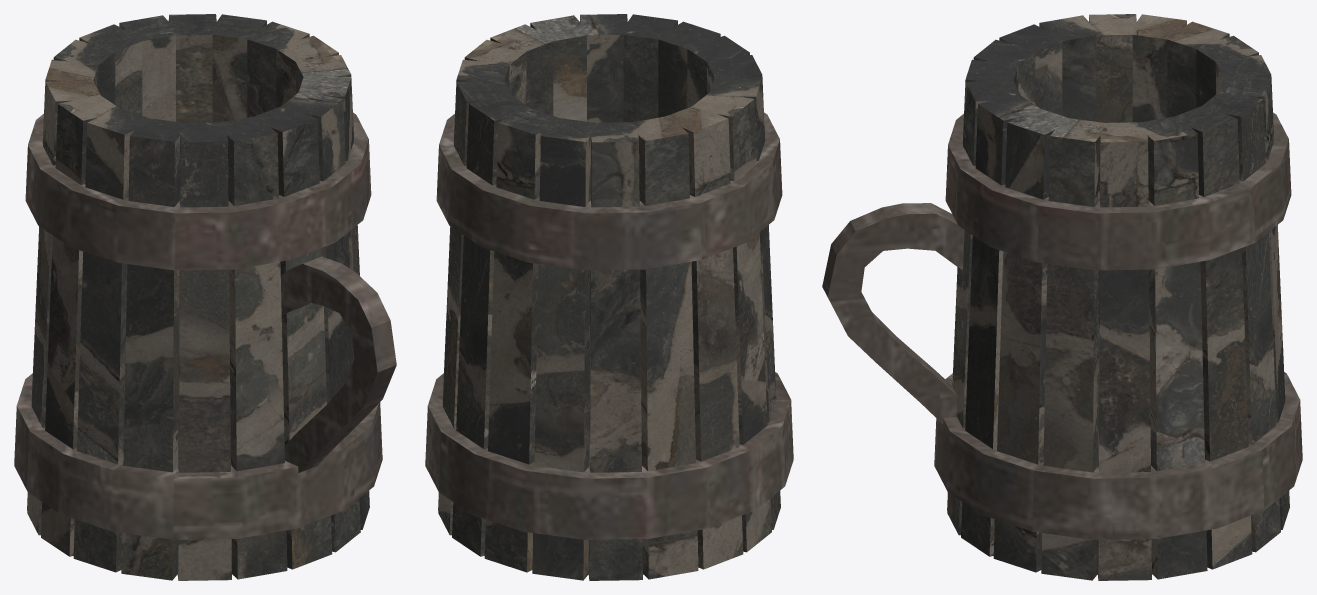
File: OU_AR_Beer_Cup_01_D.fbx
The picture shows the model from 3 angles, left to right: view 1: azimuth 30°, elevation 25°; view 2: azimuth 150°, elevation 25°; view 3: azimuth 270°, elevation 25°; orthographic projection.
Visible parts, largest first — view 1: OU_AR_Beer_Cup_01_D; view 2: OU_AR_Beer_Cup_01_D; view 3: OU_AR_Beer_Cup_01_D.
Boxes of the visible parts, x1=… form: OU_AR_Beer_Cup_01_D: x1=14, y1=14, x2=396, y2=580; OU_AR_Beer_Cup_01_D: x1=425, y1=14, x2=793, y2=580; OU_AR_Beer_Cup_01_D: x1=822, y1=14, x2=1302, y2=580.
Size of the model in its own units: 16.91 by 22.03 by 22.24.
2 materials, 2 textured.
